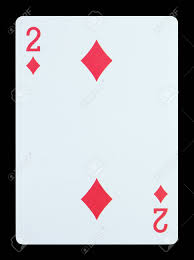two of diamonds: (15, 15, 177, 244)
